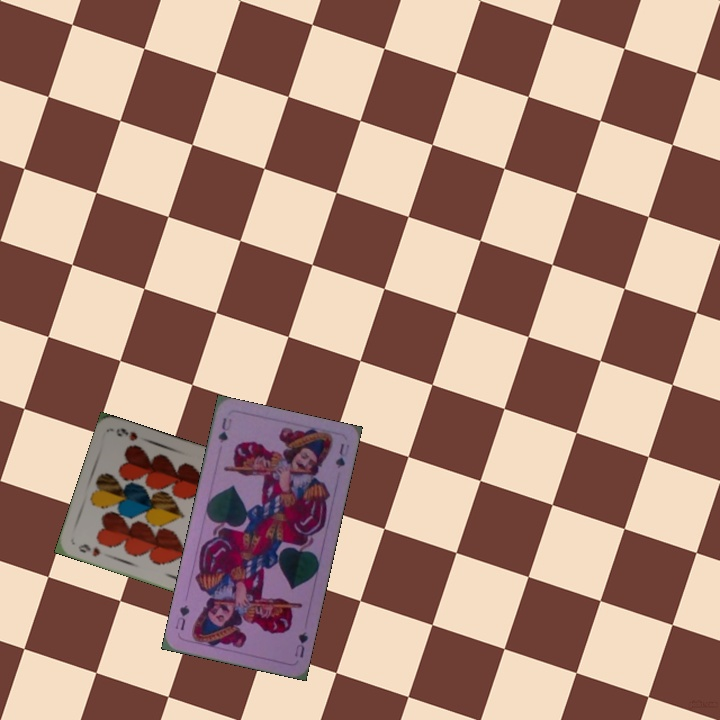GU: (291, 628, 311, 660), (214, 413, 234, 445)
H9: (74, 540, 103, 559)
